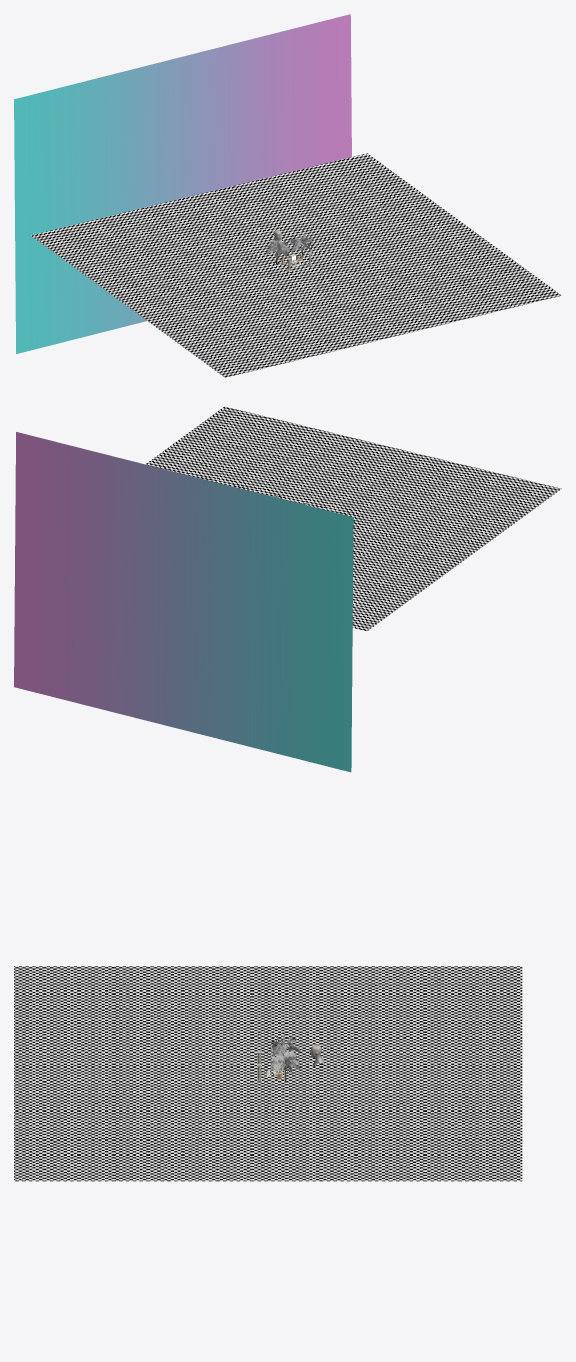
Rendered from yyr.gltf.
3 renders of one model, top to bottom at view 1: azimuth 30°, elevation 25°; view 2: azimuth 150°, elevation 25°; view 3: azimuth 270°, elevation 25°, orthographic. The views are drawn at different scales.
Parts seen in each view (by area): view 1: pPlane1, pPlane2; view 2: pPlane2, pPlane1; view 3: pPlane1.
Boxes of the visible parts, box(x1,y1,x2,y2) form: pPlane1: box(31, 153, 561, 377); pPlane2: box(14, 14, 351, 353); pPlane2: box(14, 432, 353, 772); pPlane1: box(145, 406, 561, 631); pPlane1: box(14, 966, 522, 1181).
Size of the model in its own units: 252 by 184 by 270.
9 materials, 7 textured.
